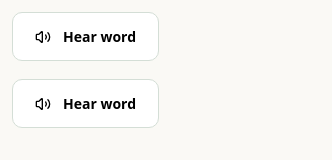
Test: section read-aloud › voice initialization › starts only the most recently requested word when voices load
The width and height of the screenshot is (332, 160).
Step 1. Click the button with aria-label "Hear pronunciation: patient" → (86, 36), box [12,12,159,61]
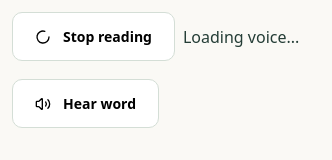
Step 2. Click the button with aria-label "Hear pronunciation: obedient" → (86, 104), box [12,79,159,128]
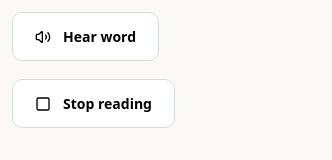
Expected: the button with aria-label "Hear pronunciation: patient" is shown, [12,12,159,61]
